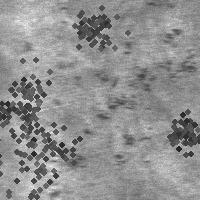rolled-in_scale: (63, 59, 193, 171), (0, 96, 93, 200), (0, 70, 53, 154), (60, 0, 128, 61), (0, 54, 60, 120), (155, 103, 200, 159)
